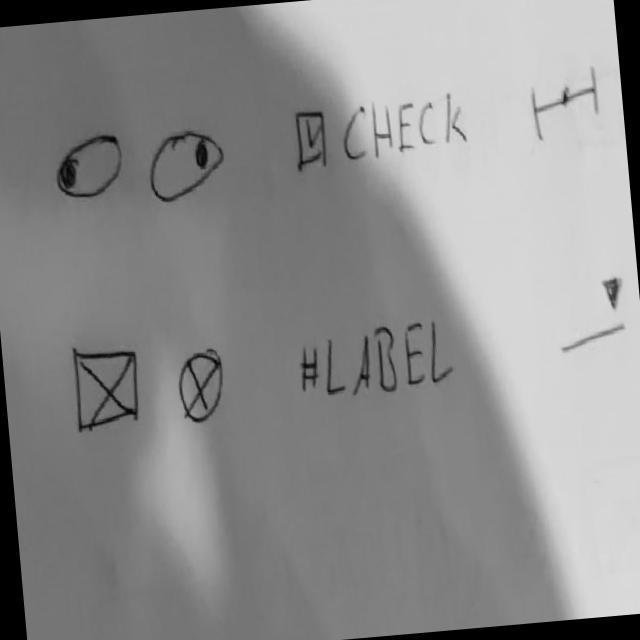checkbox: (292, 88, 471, 177)
image: (69, 343, 146, 439), (173, 340, 231, 431)
label: (295, 313, 460, 411)
select: (553, 269, 635, 360)
slider: (527, 60, 606, 150)
toggle: (145, 122, 232, 212), (51, 129, 128, 206)
